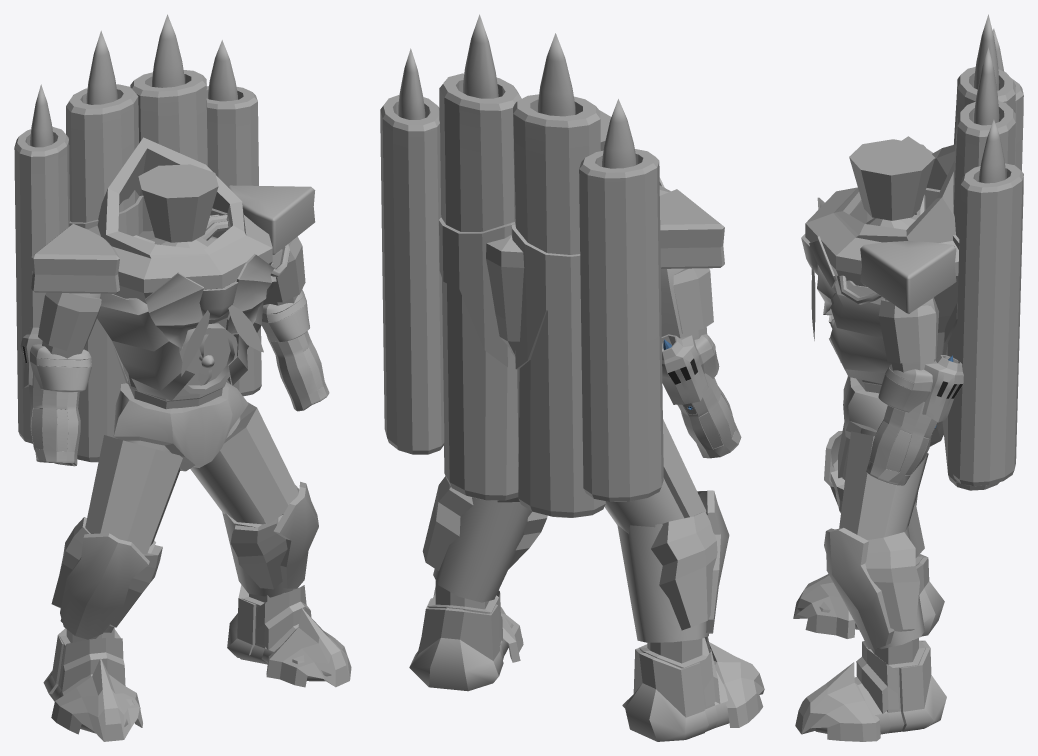
File: main_character_temporary.fbx
3 renders of one model, left to right at view 1: azimuth 30°, elevation 25°; view 2: azimuth 150°, elevation 25°; view 3: azimuth 270°, elevation 25°, orthographic. The views are drawn at different scales.
Parts seen in each view (by area): view 1: pCylinder20, pCylinder7, polySurface5 (×2), pCylinder24, pCylinder6 (×2), polySurface84 (×2), pCylinder23, pCylinder22, polySurface90, pPlane6, pCylinder1, pCylinder14 (+23 smaller); view 2: pCylinder23, pCylinder20, pCylinder24, pCylinder22, polySurface86 (×2), polySurface9, polySurface88, polySurface89, pCylinder6, polySurface85 (×2), polySurface84 (×2), pCylinder7 (+11 smaller); view 3: pCylinder22, pCylinder7, polySurface84 (×2), pCylinder23, pCylinder6, pCylinder1, polySurface1, pPlane1, polySurface86 (×2), polySurface2, polySurface5, polySurface8 (+16 smaller).
Part boxes in pixels (x1,y1,x2,y2): pCylinder20: (66, 30, 142, 462); pCylinder7: (88, 137, 272, 409); polySurface5 (×2): (85, 402, 298, 554); pCylinder24: (14, 84, 69, 443); pCylinder6 (×2): (31, 185, 315, 293); polySurface84 (×2): (51, 608, 351, 741); pCylinder23: (130, 14, 207, 231); pCylinder22: (206, 40, 261, 396); polySurface90: (60, 533, 149, 639); pPlane6: (97, 293, 194, 400); pCylinder1: (138, 164, 218, 242); pCylinder14: (113, 383, 204, 471); pCylinder23: (439, 14, 521, 500); pCylinder20: (511, 33, 605, 517); pCylinder24: (579, 99, 663, 501); pCylinder22: (380, 48, 444, 454); polySurface86 (×2): (409, 598, 708, 741); polySurface9: (433, 497, 531, 602); polySurface88: (651, 511, 717, 630); polySurface89: (617, 515, 709, 642); pCylinder6: (660, 189, 724, 268); polySurface85 (×2): (427, 580, 729, 731); polySurface84 (×2): (418, 607, 764, 727); pCylinder7: (486, 185, 670, 356); pCylinder22: (953, 119, 1023, 486); pCylinder7: (805, 144, 958, 393); polySurface84 (×2): (793, 574, 880, 741); pCylinder23: (942, 47, 1015, 490); pCylinder6: (860, 241, 956, 314); pCylinder1: (849, 139, 934, 220); polySurface1: (824, 527, 894, 649); pPlane1: (829, 274, 891, 383); polySurface86 (×2): (899, 554, 946, 731); polySurface2: (865, 532, 919, 631); polySurface5: (839, 431, 895, 539); polySurface8: (878, 299, 935, 363).
Bounding box in the file's own units: 155 × 320 × 104.
2 materials, 1 textured.
